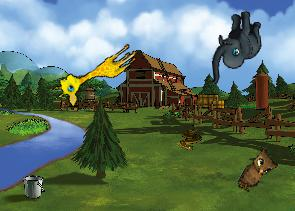elephant: (203, 9, 266, 84)
giraffe: (50, 33, 141, 110)
owl: (235, 145, 282, 199)
